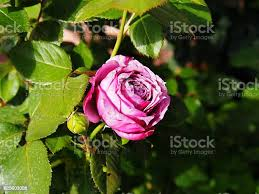rose: (81, 47, 175, 146)
